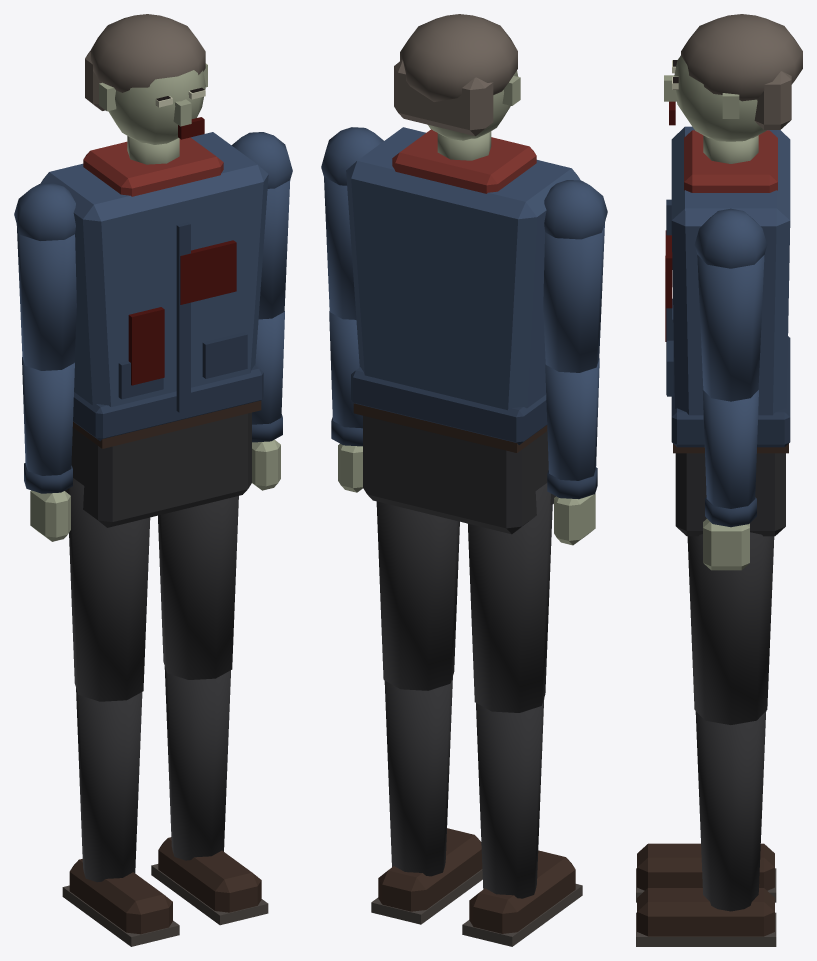
Rendered from zombie_b.glb.
3 renders of one model, left to right at view 1: azimuth 30°, elevation 25°; view 2: azimuth 150°, elevation 25°; view 3: azimuth 270°, elevation 25°, orthographic. The views are drawn at different scales.
Parts seen in each view (by area): view 1: Torso, ShinR, ShinL, Hips, LegR, Head, LegL, ArmR, ForearmR, ArmL, ForearmL; view 2: Torso, ShinR, Hips, ShinL, LegR, Head, LegL, ArmR, ForearmR, ArmL, ForearmL; view 3: Torso, ShinL, Head, LegL, ArmL, ForearmL, Hips, ShinR.
Part boxes in pixels (x1,y1,x2,y2): Torso: (40, 132, 268, 441); ShinR: (62, 688, 179, 946); ShinL: (151, 666, 268, 925); Hips: (65, 400, 261, 527); LegR: (69, 478, 150, 701); Head: (85, 14, 207, 164); LegL: (158, 496, 238, 679); ArmR: (14, 183, 76, 370); ForearmR: (22, 357, 74, 541); ArmL: (231, 132, 292, 319); ForearmL: (252, 311, 284, 490); Torso: (346, 127, 580, 444); ShinR: (462, 698, 582, 946); Hips: (353, 403, 555, 534); ShinL: (371, 676, 482, 924); LegR: (468, 483, 552, 712); Head: (394, 14, 520, 160); LegL: (376, 501, 459, 690); ArmR: (543, 180, 607, 372); ForearmR: (545, 358, 599, 545); ArmL: (321, 127, 383, 319); ForearmL: (329, 311, 362, 492); Torso: (665, 126, 790, 447); ShinL: (636, 711, 776, 946); Head: (664, 14, 802, 163); LegL: (687, 532, 774, 724); ArmL: (694, 208, 767, 401); ForearmL: (702, 390, 758, 570); Hips: (673, 443, 788, 536); ShinR: (636, 843, 776, 902).
Size of the model in its own units: 0.582 by 1.78 by 0.3026.
